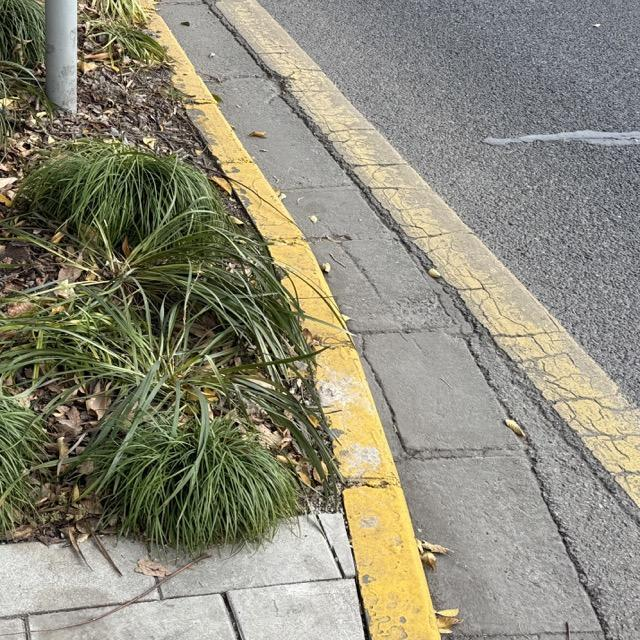curb: (141, 0, 440, 639)
